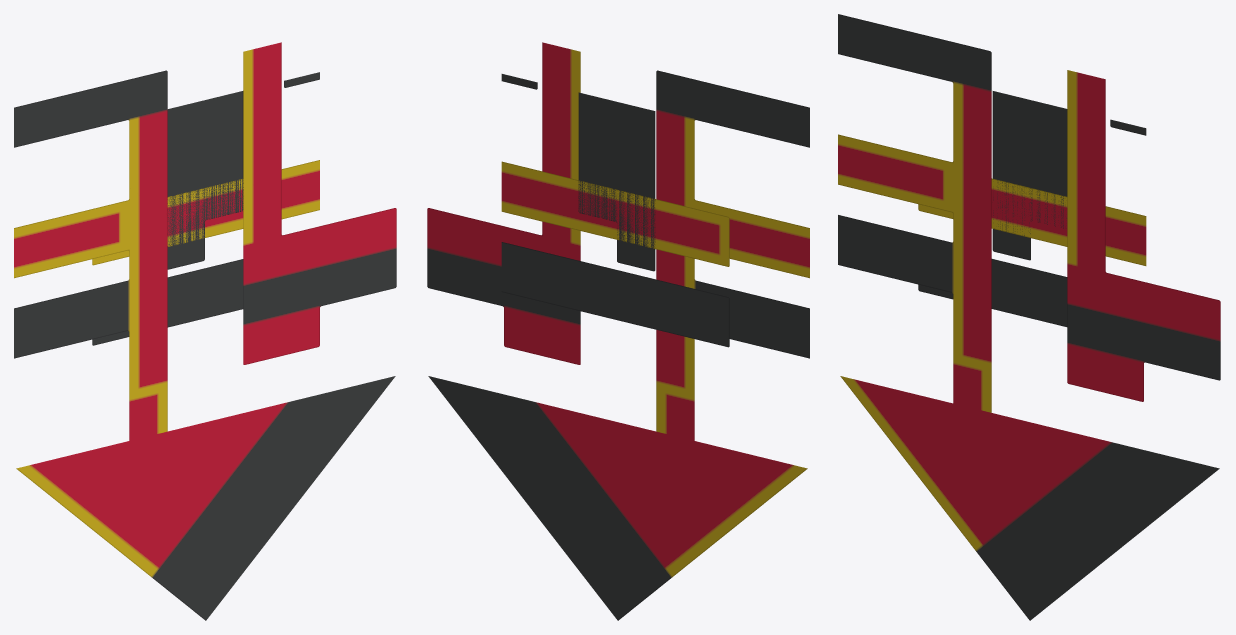
Rendered from flag.obj.
3 views of the same model, side by side, from view 1: azimuth 30°, elevation 25°; view 2: azimuth 150°, elevation 25°; view 3: azimuth 330°, elevation 25° (orthographic).
Visible parts, largest first — view 1: cube, plane; view 2: cube, plane; view 3: cube, plane.
Boxes of the visible parts, x1=… form: cube: x1=14, y1=42, x2=396, y2=440; plane: x1=16, y1=376, x2=395, y2=620; cube: x1=427, y1=42, x2=809, y2=440; plane: x1=428, y1=376, x2=807, y2=620; cube: x1=838, y1=14, x2=1220, y2=412; plane: x1=840, y1=376, x2=1219, y2=620.
Size of the model in its own units: 0.625 by 0.8719 by 0.00313.
